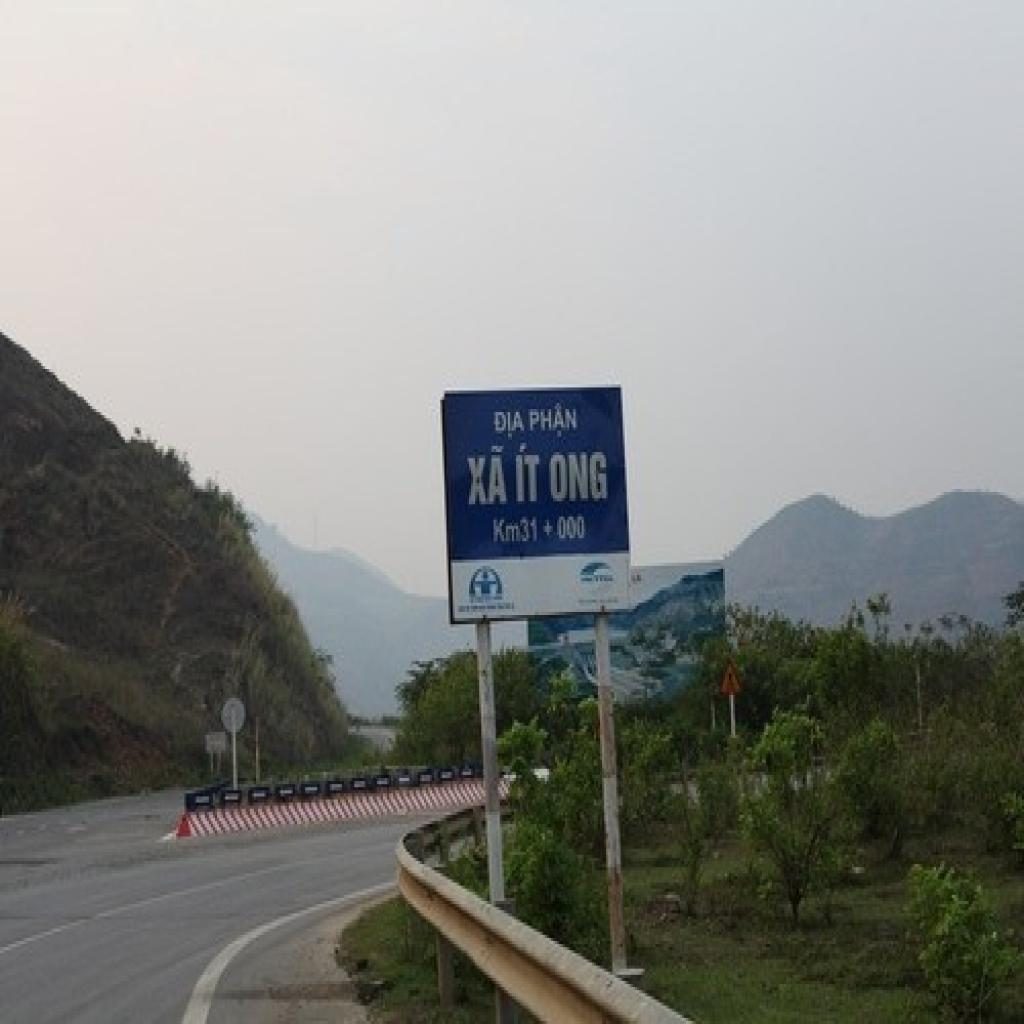text: (547, 449, 612, 510), (463, 443, 514, 513), (526, 400, 582, 443), (514, 443, 545, 507), (490, 514, 540, 548), (494, 409, 532, 446), (557, 514, 588, 548), (543, 517, 557, 541)
